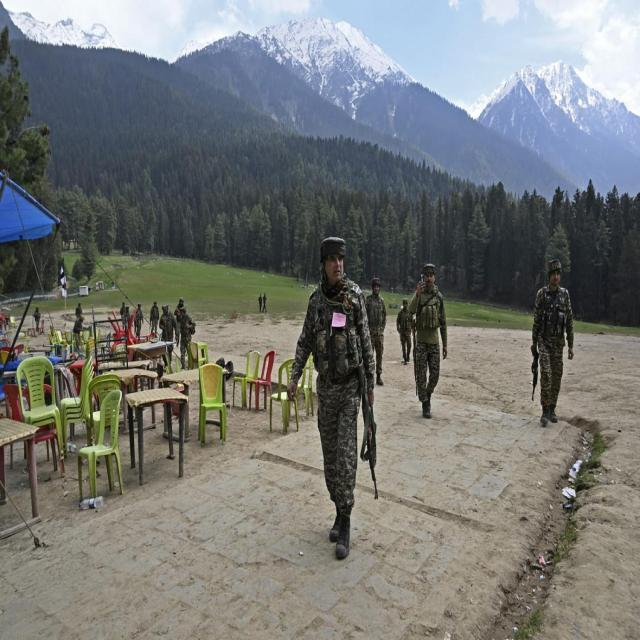Forest: (0, 0, 640, 640)
Militant: (286, 225, 385, 590), (527, 241, 586, 436), (401, 250, 454, 428), (361, 259, 393, 404), (395, 277, 418, 377), (174, 292, 198, 374), (156, 293, 180, 372), (68, 296, 88, 351), (128, 294, 147, 344), (146, 297, 162, 347), (252, 286, 273, 319), (112, 297, 129, 333), (30, 300, 47, 335)
